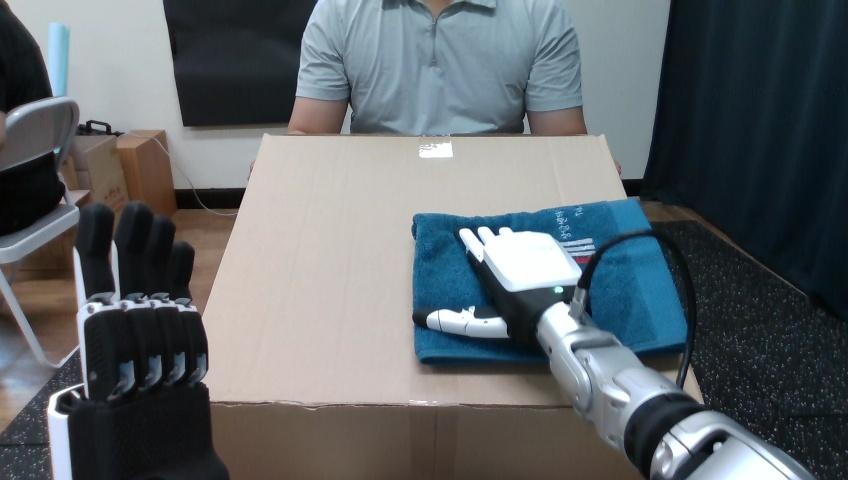left robot hand: (413, 226, 813, 479), (48, 201, 227, 479), (587, 236, 687, 382)
